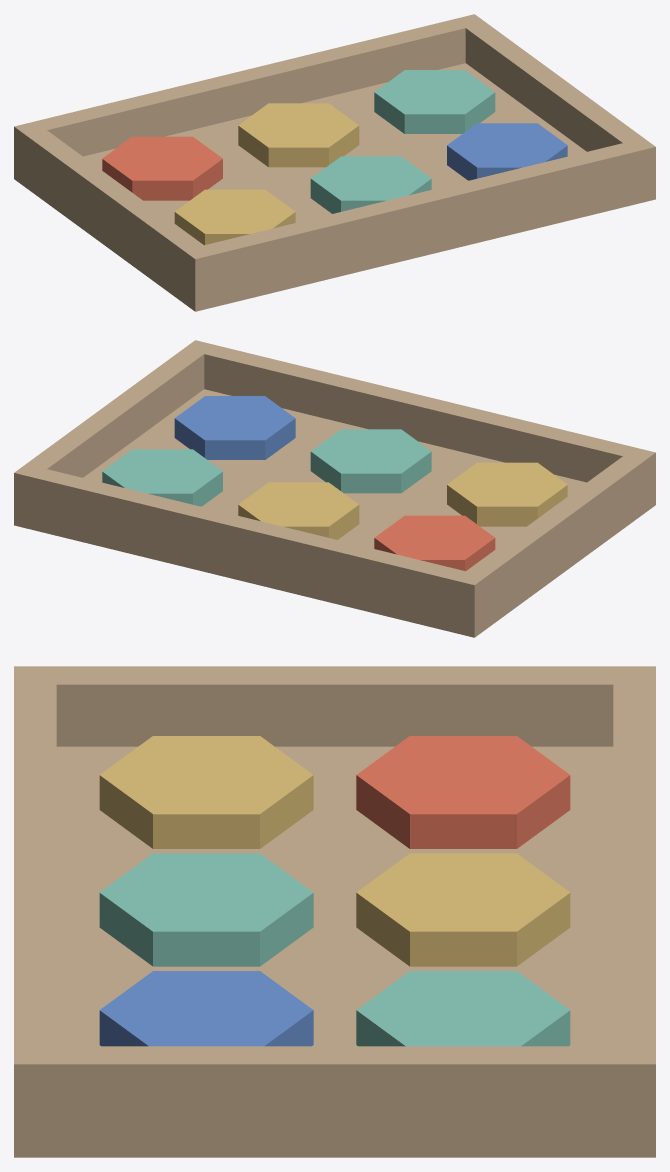
Rendered from prop-pigment-cake-tray.fbx.
3 renders of one model, top to bottom at view 1: azimuth 30°, elevation 25°; view 2: azimuth 150°, elevation 25°; view 3: azimuth 270°, elevation 25°, orthographic. The views are drawn at different scales.
Visible parts, largest first — view 1: prop-pigment-cake-tray; view 2: prop-pigment-cake-tray; view 3: prop-pigment-cake-tray.
Part boxes in pixels (x1,y1,x2,y2): prop-pigment-cake-tray: (14, 14, 655, 311); prop-pigment-cake-tray: (14, 340, 655, 637); prop-pigment-cake-tray: (14, 666, 655, 1157).
Size of the model in its own units: 22 by 2.4 by 15.
